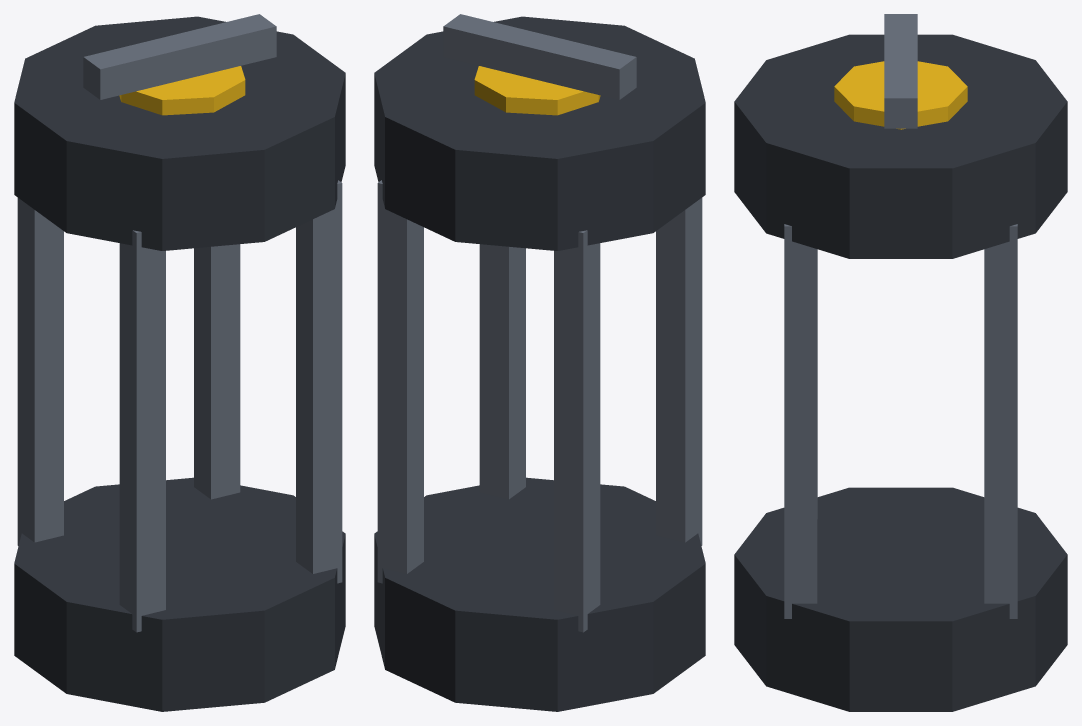
File: prop_power_cell.glb
3 views of the same model, side by side, from view 1: azimuth 30°, elevation 25°; view 2: azimuth 150°, elevation 25°; view 3: azimuth 270°, elevation 25° (orthographic).
Visible parts, largest first — view 1: prop_power_cell; view 2: prop_power_cell; view 3: prop_power_cell.
Boxes of the visible parts, x1=… form: prop_power_cell: x1=14, y1=14, x2=345, y2=711; prop_power_cell: x1=374, y1=14, x2=705, y2=711; prop_power_cell: x1=734, y1=14, x2=1067, y2=711.
Bounding box in the file's own units: 0.1902 × 0.39 × 0.2.
Materials: 1 (1 with a texture image).
